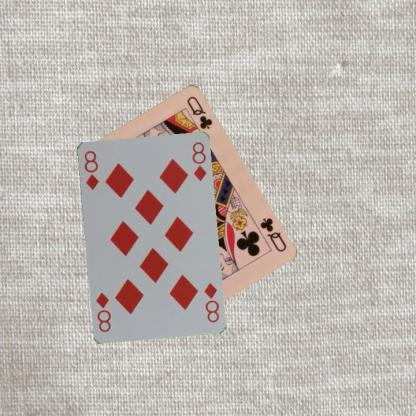8d: (81, 147, 100, 191), (201, 280, 220, 324)
Qc: (256, 215, 288, 253)
